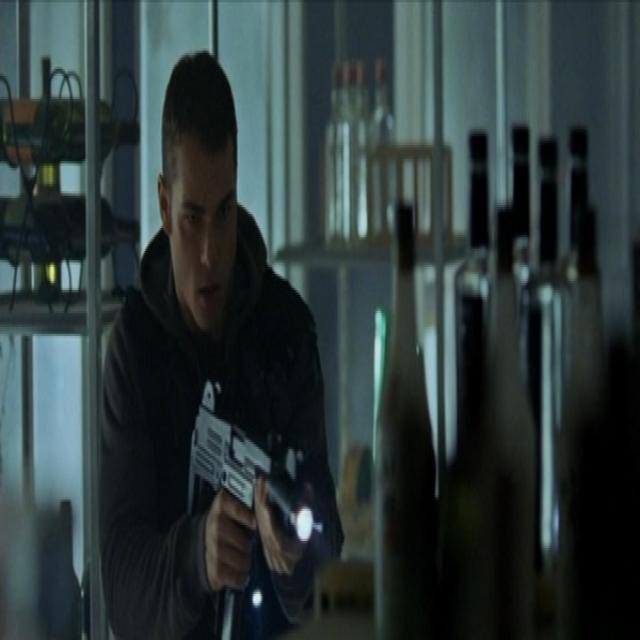rifle: (185, 377, 319, 640)
